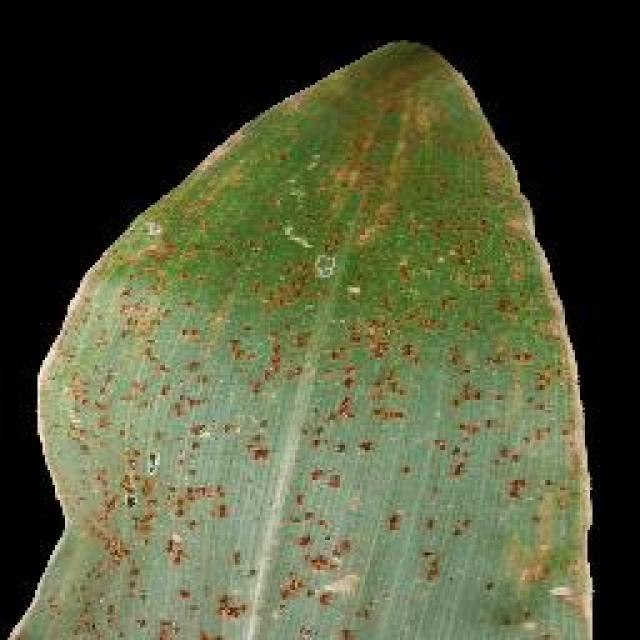Corn Common Rust: (121, 147, 566, 635)
